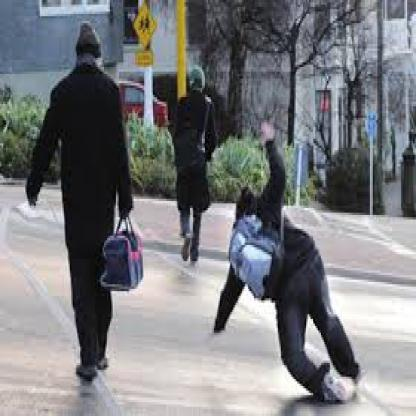Fall_Down: (210, 120, 360, 402)
